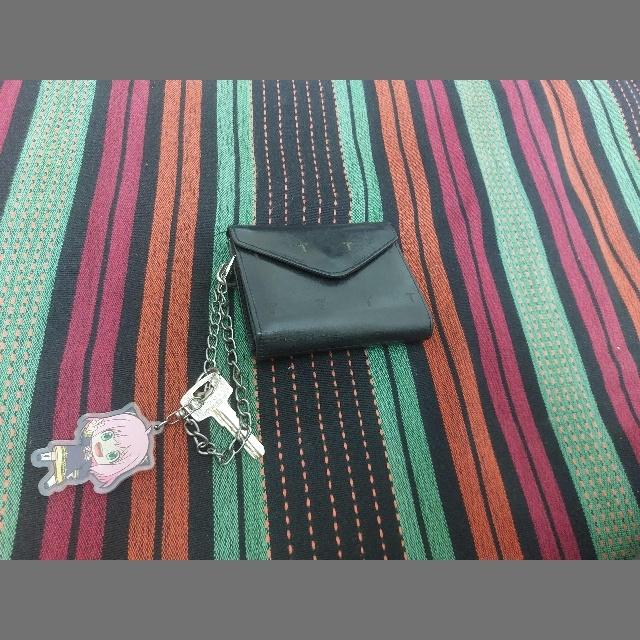Wallet: (225, 220, 433, 360)
